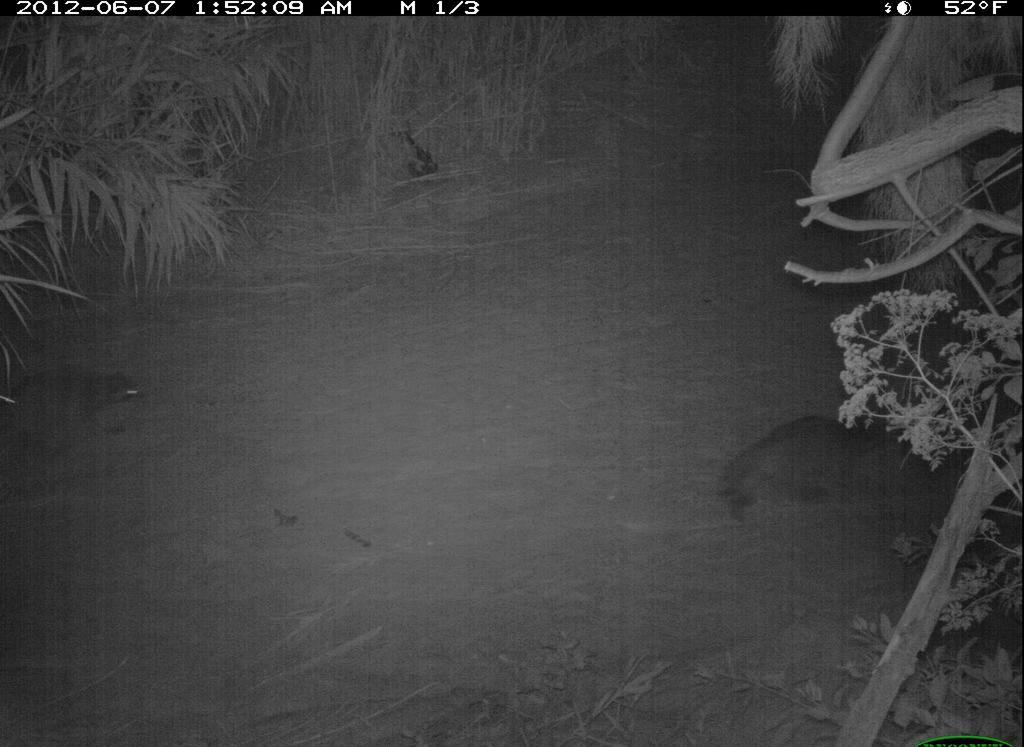raccoon: (690, 406, 934, 541), (1, 358, 161, 468)
